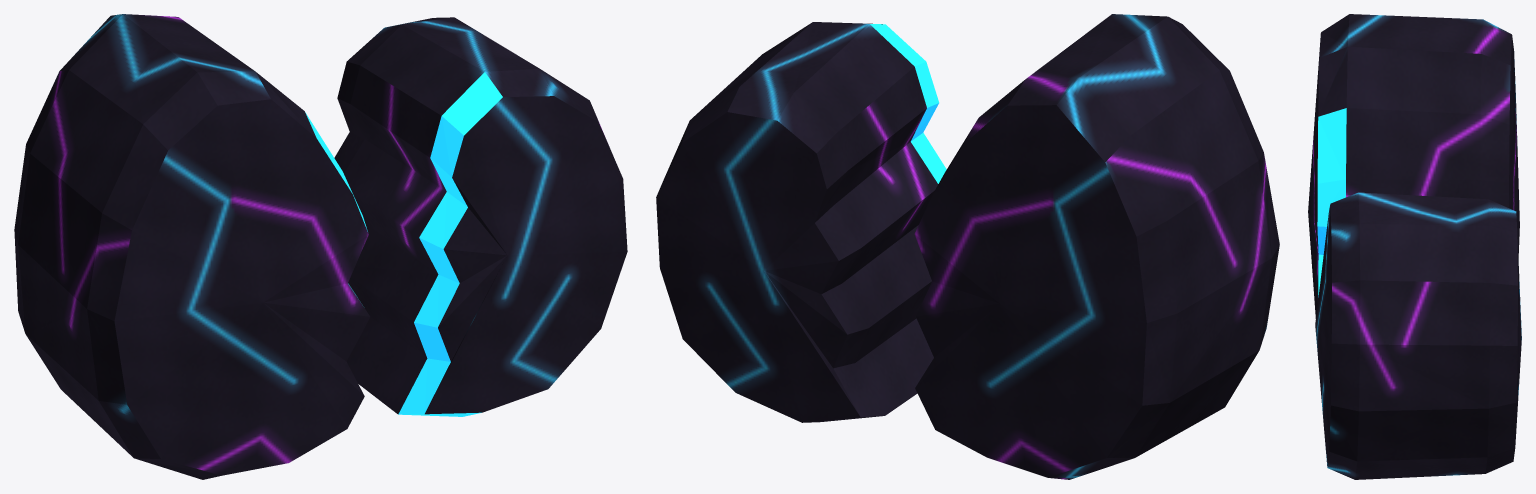
The model's file is Anomalous_Loose_A.fbx.
The picture shows the model from 3 angles, left to right: view 1: azimuth 30°, elevation 25°; view 2: azimuth 150°, elevation 25°; view 3: azimuth 270°, elevation 25°; orthographic projection. The views are drawn at different scales.
Visible parts, largest first — view 1: Anomalous_Loose_A_LOD0; view 2: Anomalous_Loose_A_LOD0; view 3: Anomalous_Loose_A_LOD0.
Part boxes in pixels (bbox=[...]): Anomalous_Loose_A_LOD0: bbox=[14, 14, 627, 479]; Anomalous_Loose_A_LOD0: bbox=[656, 14, 1279, 479]; Anomalous_Loose_A_LOD0: bbox=[1308, 14, 1521, 479].
Size of what is drawn, in the model's own units: 1.9 by 1.4 by 0.8045.
